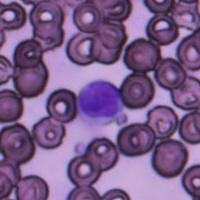L: (76, 79, 123, 125)
